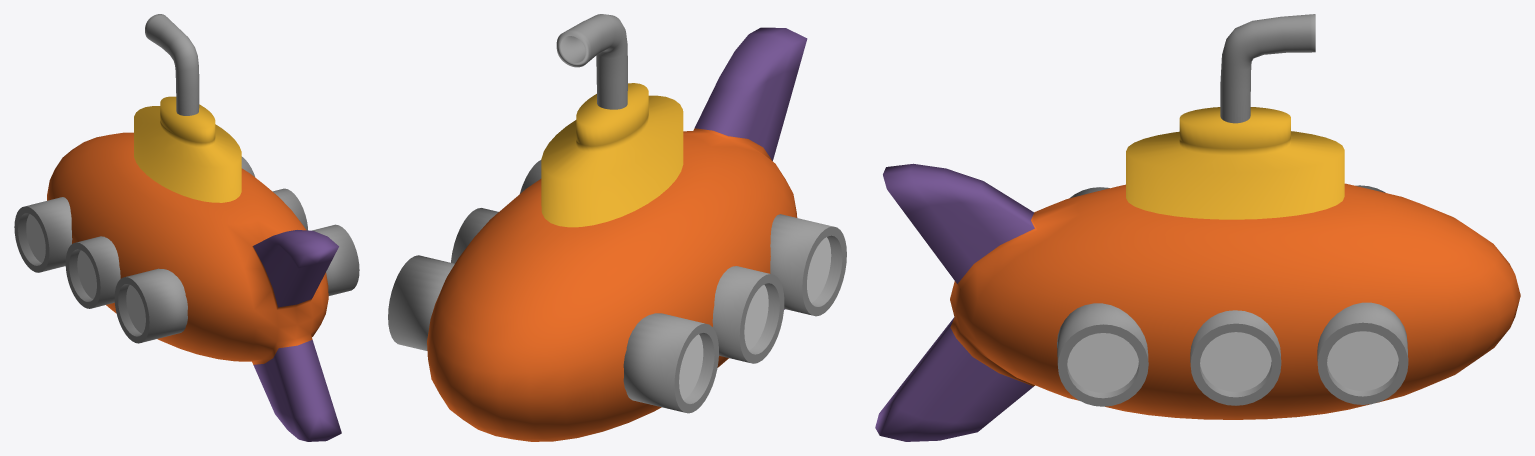
Rendered from Submarino.glb.
3 views of the same model, side by side, from view 1: azimuth 30°, elevation 25°; view 2: azimuth 150°, elevation 25°; view 3: azimuth 270°, elevation 25° (orthographic). The views are drawn at different scales.
Parts seen in each view (by area): view 1: Sphere; view 2: Sphere; view 3: Sphere.
Boxes of the visible parts, x1,y1,x2,y2 form: Sphere: (14, 14, 359, 441); Sphere: (388, 14, 846, 441); Sphere: (875, 14, 1520, 441).
Bounding box in the file's own units: 2.76 × 3.84 × 5.4.
